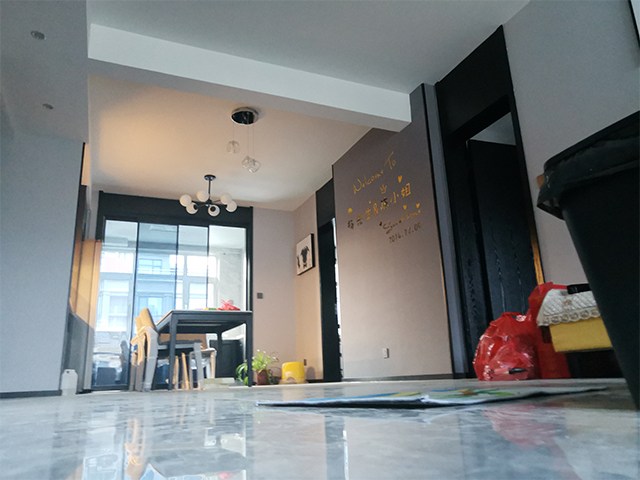carpet: (251, 383, 610, 411)
stool: (129, 307, 218, 394), (280, 361, 307, 385)
table: (154, 309, 255, 391)
trashcan: (533, 110, 640, 417)
